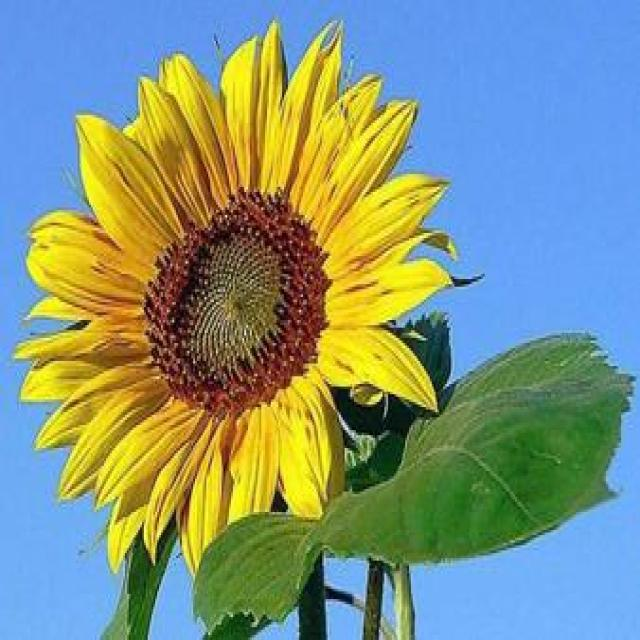sunflower: (6, 4, 458, 582)
